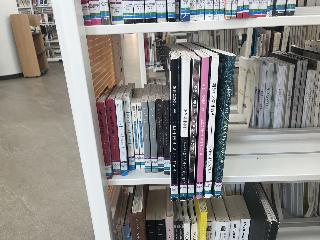book-spine: (214, 55, 236, 198), (204, 55, 219, 198), (195, 57, 209, 199), (187, 59, 200, 200), (179, 59, 190, 201), (96, 102, 112, 180), (106, 99, 121, 176), (171, 58, 178, 201), (115, 100, 128, 176), (123, 96, 135, 170), (141, 102, 151, 173), (148, 101, 158, 172), (162, 100, 170, 175), (131, 103, 140, 169), (156, 99, 164, 172), (137, 103, 145, 169)
